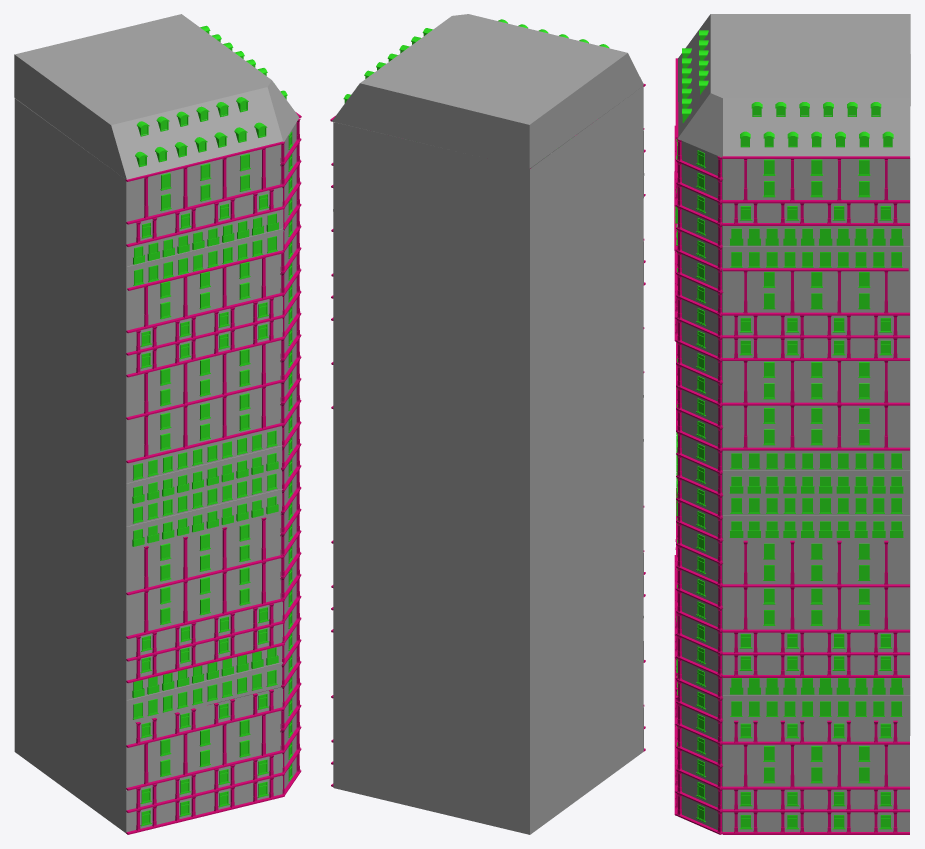
Rendered from Building-Mesh-003.fbx.
The picture shows the model from 3 angles, left to right: view 1: azimuth 30°, elevation 25°; view 2: azimuth 150°, elevation 25°; view 3: azimuth 270°, elevation 25°; orthographic projection. The views are drawn at different scales.
Visible parts, largest first — view 1: Plane.007, Window_5.011, Plane.009; view 2: Plane.007; view 3: Plane.007, Window_5.011, Plane.009.
Part boxes in pixels (x1,y1,x2,y2): Plane.007: (14, 14, 298, 833); Window_5.011: (132, 25, 292, 826); Plane.009: (125, 112, 301, 834); Plane.007: (332, 14, 644, 834); Plane.007: (677, 14, 910, 831); Window_5.011: (675, 30, 903, 829); Plane.009: (674, 58, 909, 834).
Bounding box in the file's own units: 3765 × 12776 × 3788.
